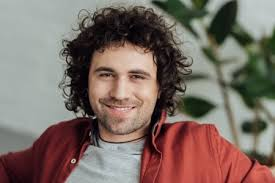white_male: (69, 43, 159, 131)
